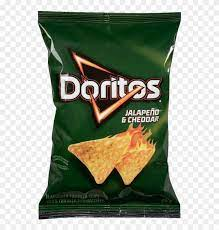Doritos: (35, 5, 187, 221)
